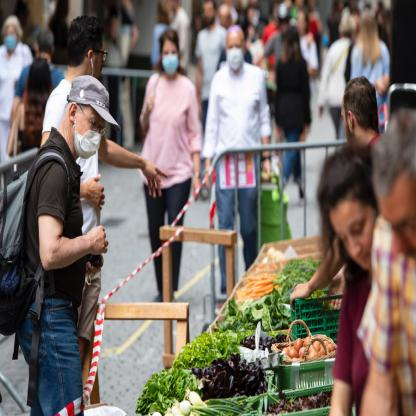Not_Wearing_Mask: (327, 175, 378, 270)
Wearing_Mask: (72, 92, 106, 166), (226, 31, 249, 72), (158, 34, 178, 80), (2, 21, 20, 52)
